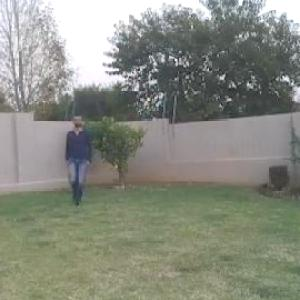follow: (64, 113, 92, 207)
